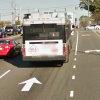Bus: (15, 9, 79, 77)
